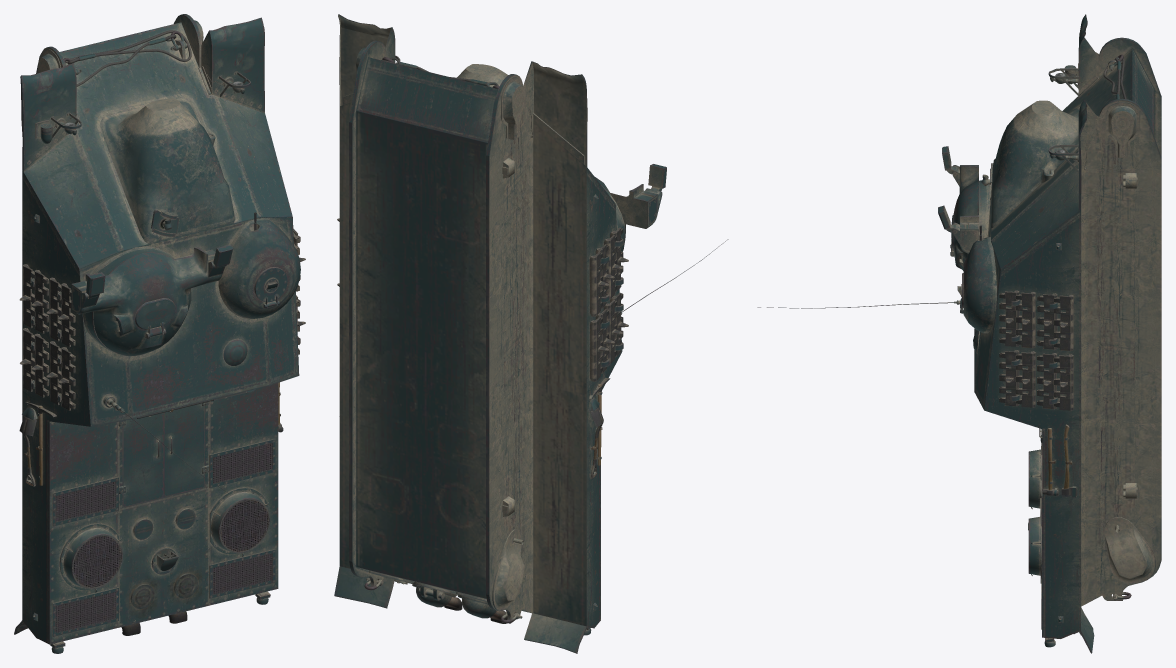
Rendered from Hull.glb.
3 views of the same model, side by side, from view 1: azimuth 30°, elevation 25°; view 2: azimuth 150°, elevation 25°; view 3: azimuth 270°, elevation 25° (orthographic). The views are drawn at different scales.
Parts seen in each view (by area): view 1: set_0_group_0; view 2: set_0_group_0; view 3: set_0_group_0.
Boxes of the visible parts, <box> form: set_0_group_0: <box>14,14,305,653</box>; set_0_group_0: <box>334,14,728,653</box>; set_0_group_0: <box>757,14,1161,653</box>.
Size of the model in its own units: 3.55 by 7.29 by 5.01.
1 material, 1 textured.
